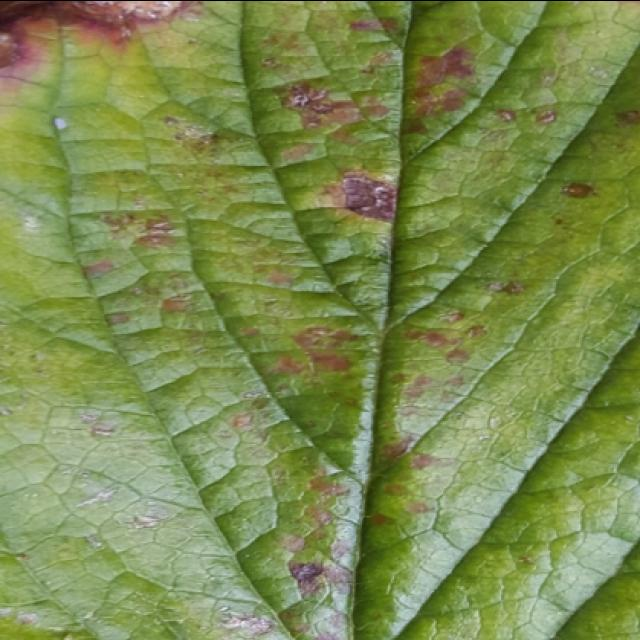Angular Leafspot: (0, 2, 638, 640)
